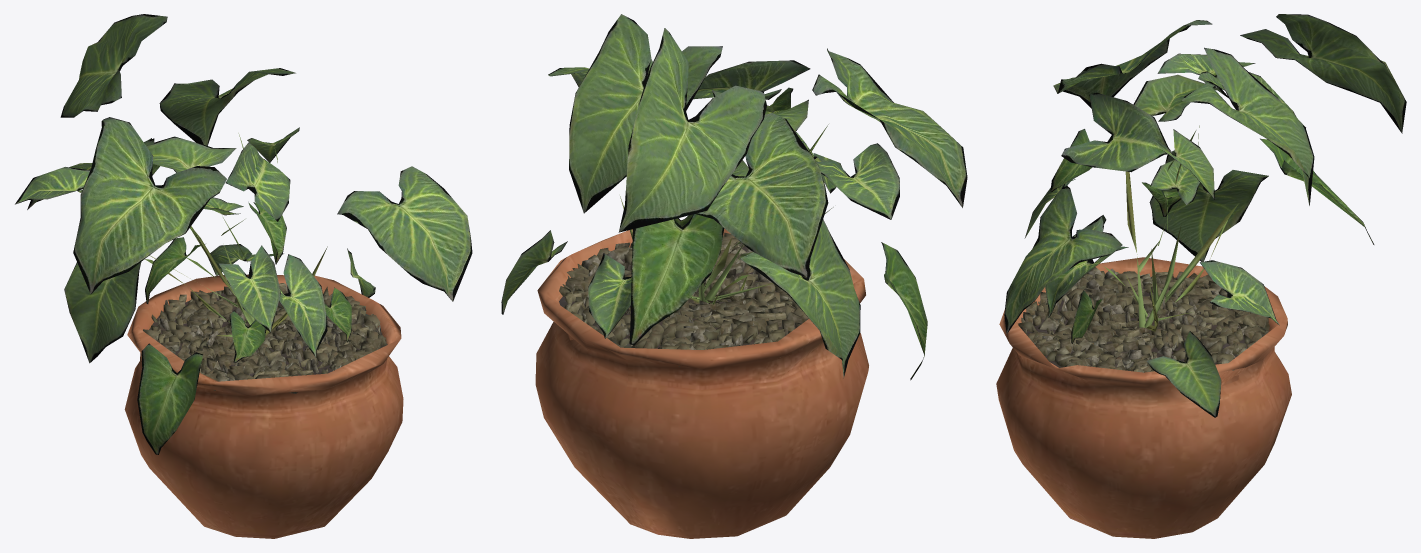
Rendered from plant.glb.
3 views of the same model, side by side, from view 1: azimuth 30°, elevation 25°; view 2: azimuth 150°, elevation 25°; view 3: azimuth 270°, elevation 25° (orthographic). The views are drawn at different scales.
Parts seen in each view (by area): view 1: potted_plant_02_leaves, potted_plant_02_pot, potted_plant_02_dirt; view 2: potted_plant_02_leaves, potted_plant_02_pot, potted_plant_02_dirt; view 3: potted_plant_02_leaves, potted_plant_02_pot, potted_plant_02_dirt.
Part boxes in pixels (x1,y1,x2,y2): potted_plant_02_leaves: (15, 14, 472, 454); potted_plant_02_pot: (124, 274, 403, 538); potted_plant_02_dirt: (143, 283, 387, 393); potted_plant_02_leaves: (501, 14, 967, 380); potted_plant_02_pot: (535, 228, 868, 538); potted_plant_02_dirt: (559, 232, 808, 366); potted_plant_02_leaves: (1004, 14, 1406, 417); potted_plant_02_pot: (996, 257, 1291, 538); potted_plant_02_dirt: (1018, 267, 1269, 372).
Size of the model in its own units: 0.7009 by 0.8395 by 0.6561.
Materials: 2 (2 with a texture image).
